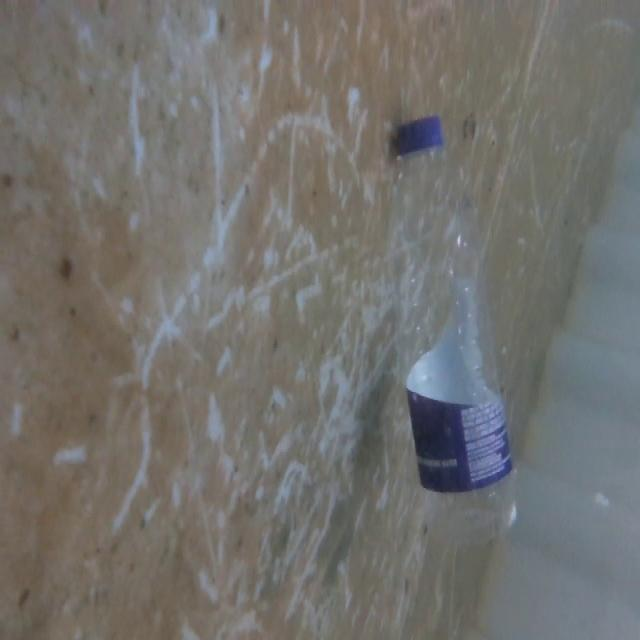plastic bottle: (378, 107, 532, 549)
